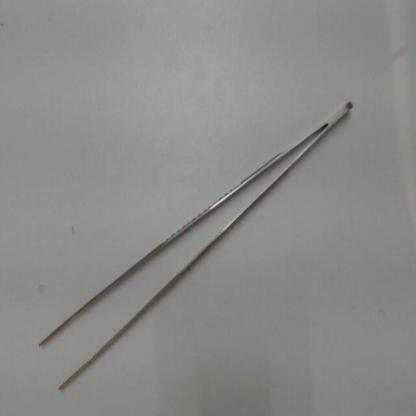DeBakey Dissector: (28, 77, 366, 408)
